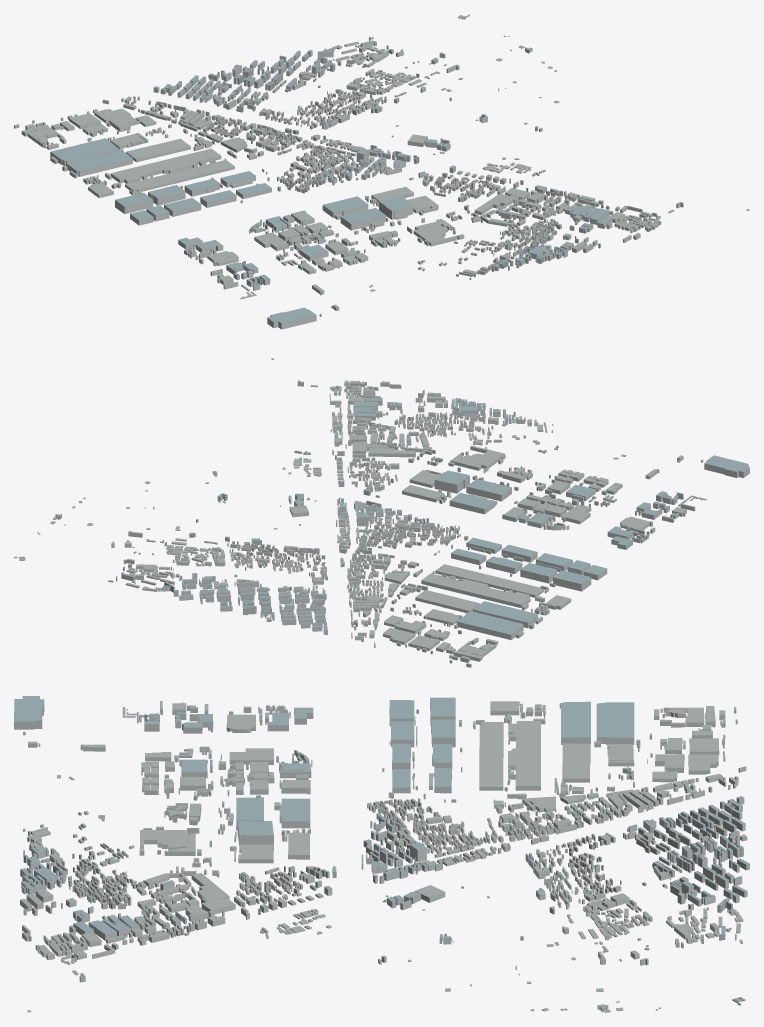
File: far.glb
3 renders of one model, top to bottom at view 1: azimuth 30°, elevation 25°; view 2: azimuth 150°, elevation 25°; view 3: azimuth 270°, elevation 25°, orthographic. The views are drawn at different scales.
Size of the model in its own units: 2118 by 38.67 by 2134.
